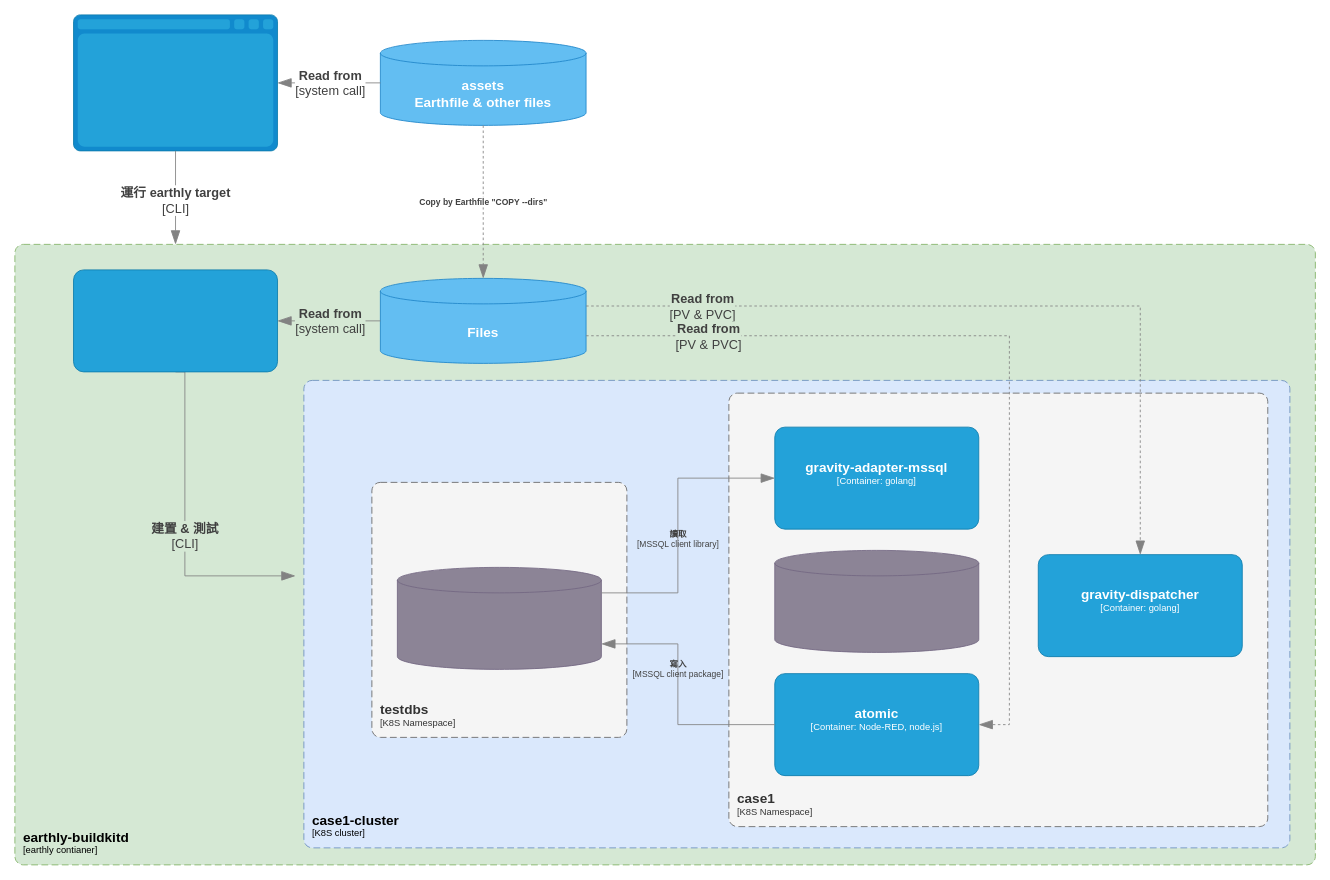
The diagram is 1330 pixels wide and 880 high, and some of its shapes have lost their labels. Here are the shapes that lost their labels. From the top down, the centre of each, then its label:
(x=175, y=82): earthly -P +Target [: ]
(x=175, y=320): integration-tests-k8s.sh [Container: bash script]
(x=499, y=618): MSSQL Server [Container: C++ / C# ] Source DB
(x=876, y=601): NATS JetStream [Container: golang] Event stream 儲存庫
